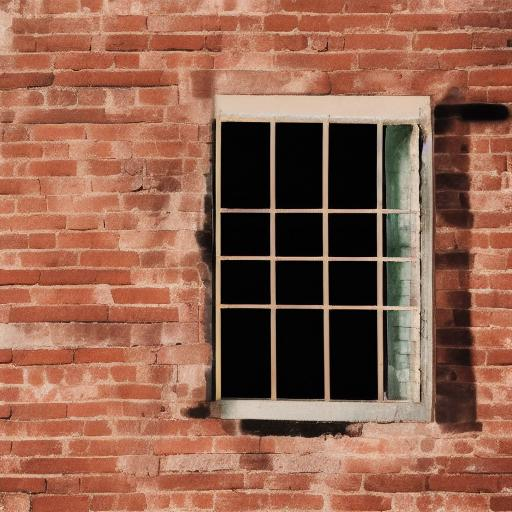Window: (204, 93, 440, 429)
